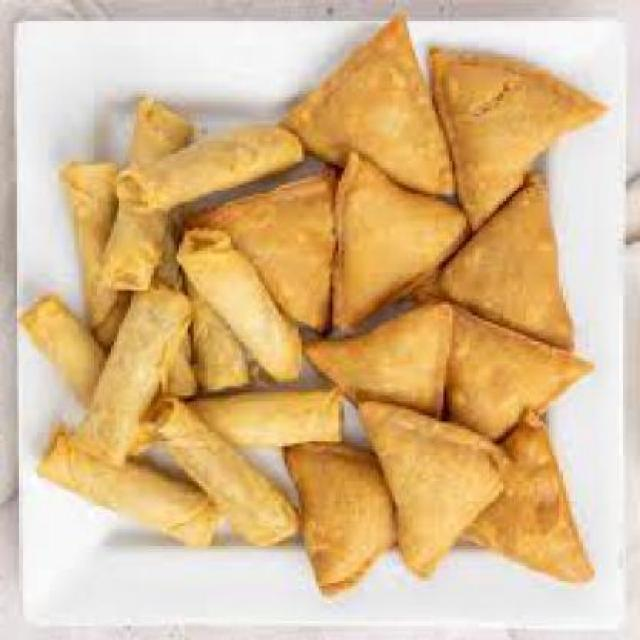samosa: (293, 12, 619, 594)
spring rolls: (29, 82, 296, 547)
